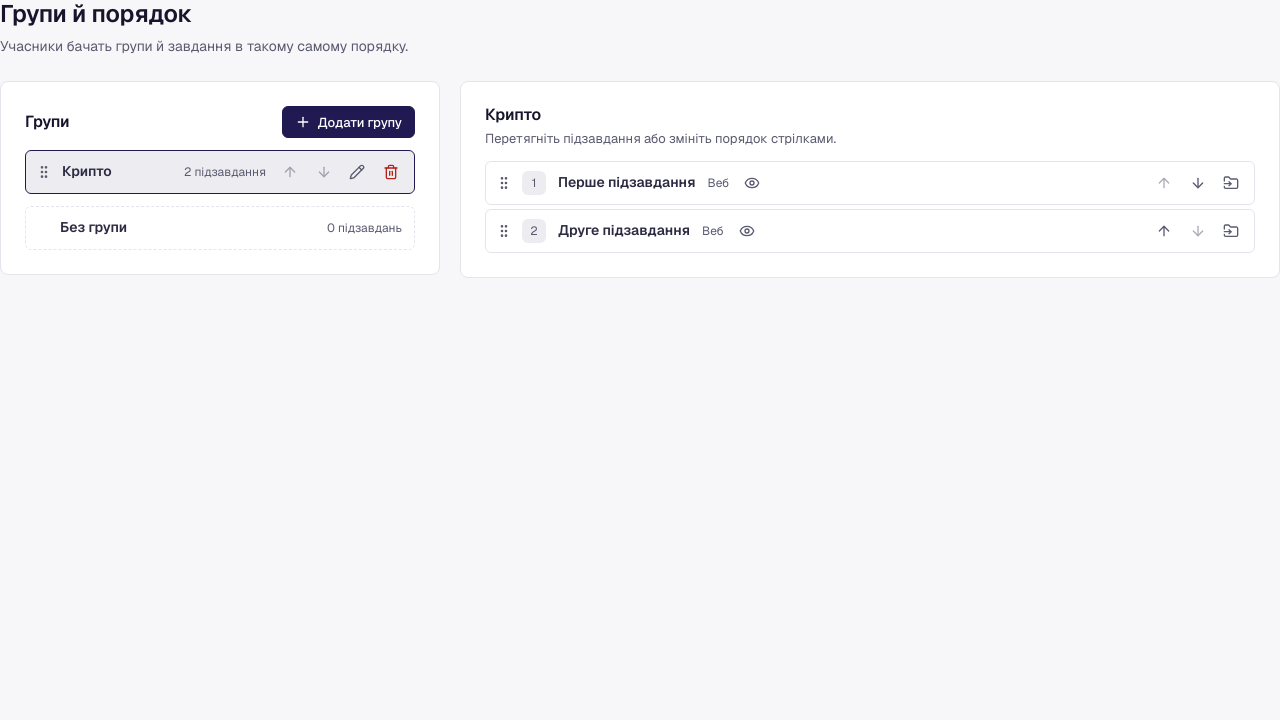
Test: ChallengeGroupsManager group sidebar › keeps an empty ungrouped destination beside named groups and can navigate back to their tasks
Step 1. Click the button "Без групи 0 підзавдань" → (94, 227), box [25,206,415,250]
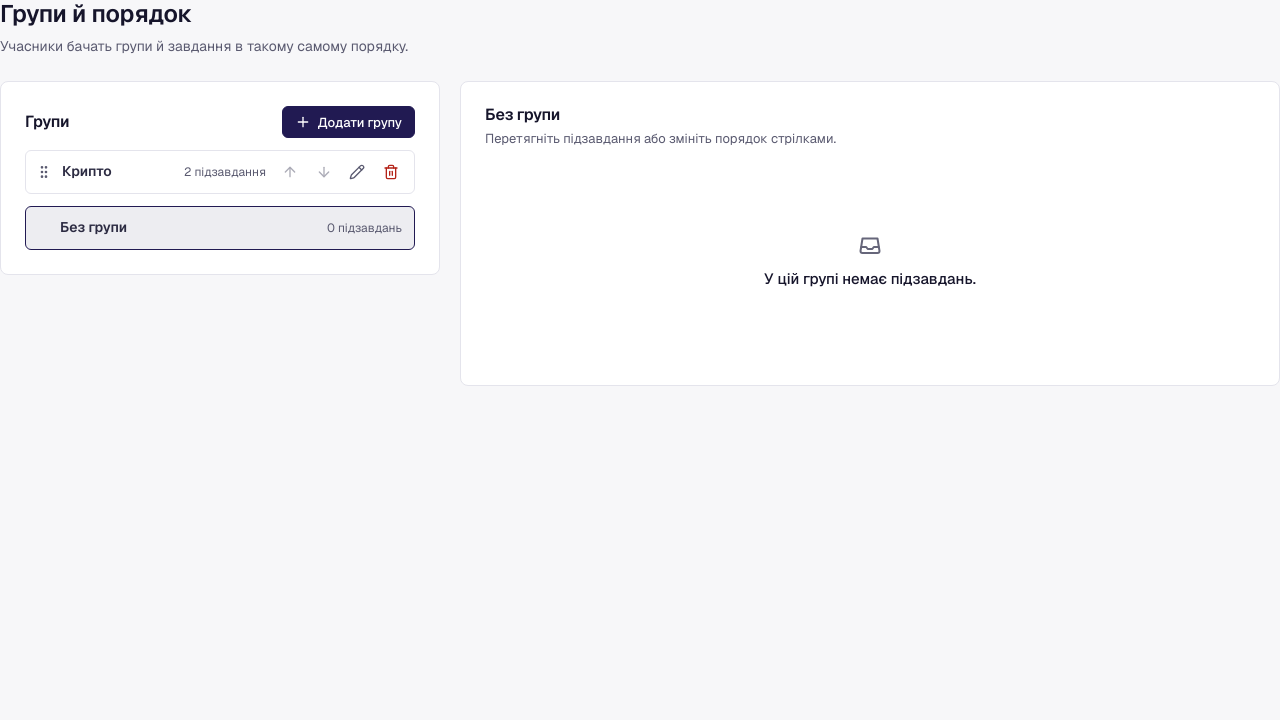
expect the text "У цій групі немає підзавдань." is shown: met, box [764,269,976,289]
expect the text "Перше підзавдання" is gone: met
Step 2. Click the button "Крипто 2 підзавдання" → (164, 172), box [62,151,266,193]
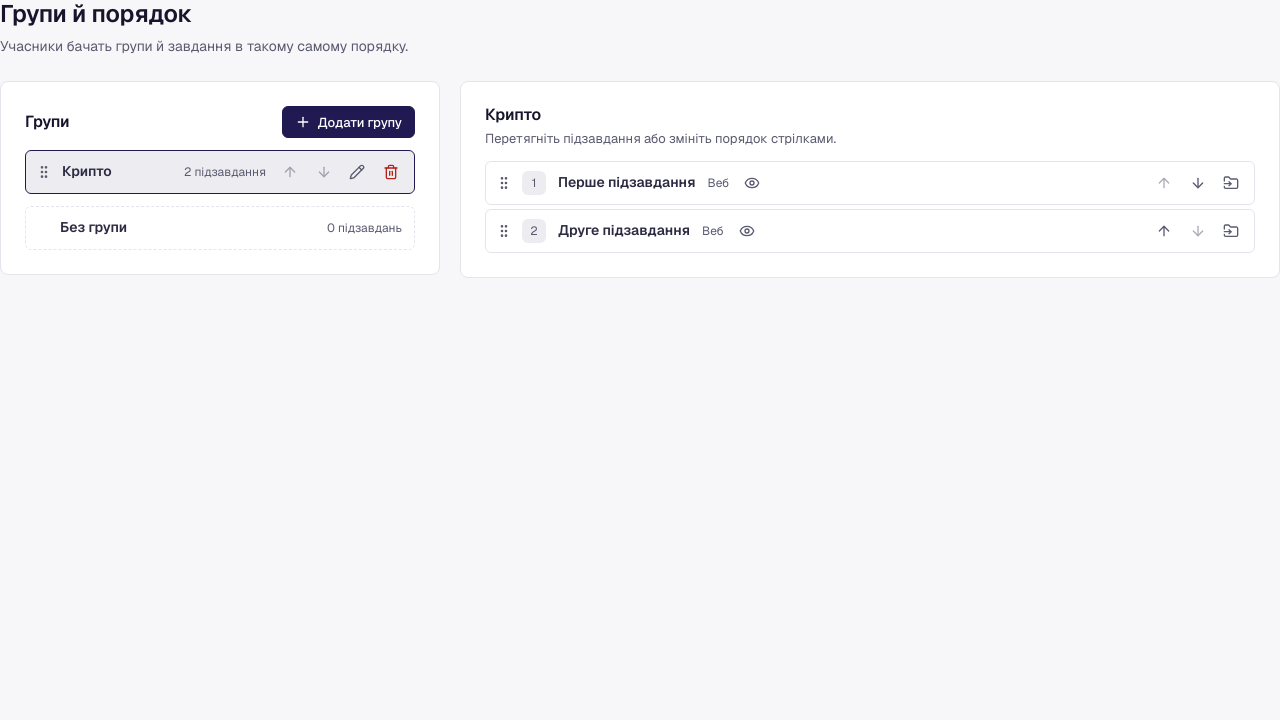
expect the text "Перше підзавдання" is shown: met, box [558,172,696,194]
expect the button named "Опустити Перше підзавдання" is enabled: met, box [1182,167,1214,199]
expect the button named "Підняти Друге підзавдання" is enabled: met, box [1148,215,1180,247]
Step 3. Click the button named "Перемістити до групи…" in the row of "Перше підзавдання" → (1231, 183), box [1216,168,1246,198]
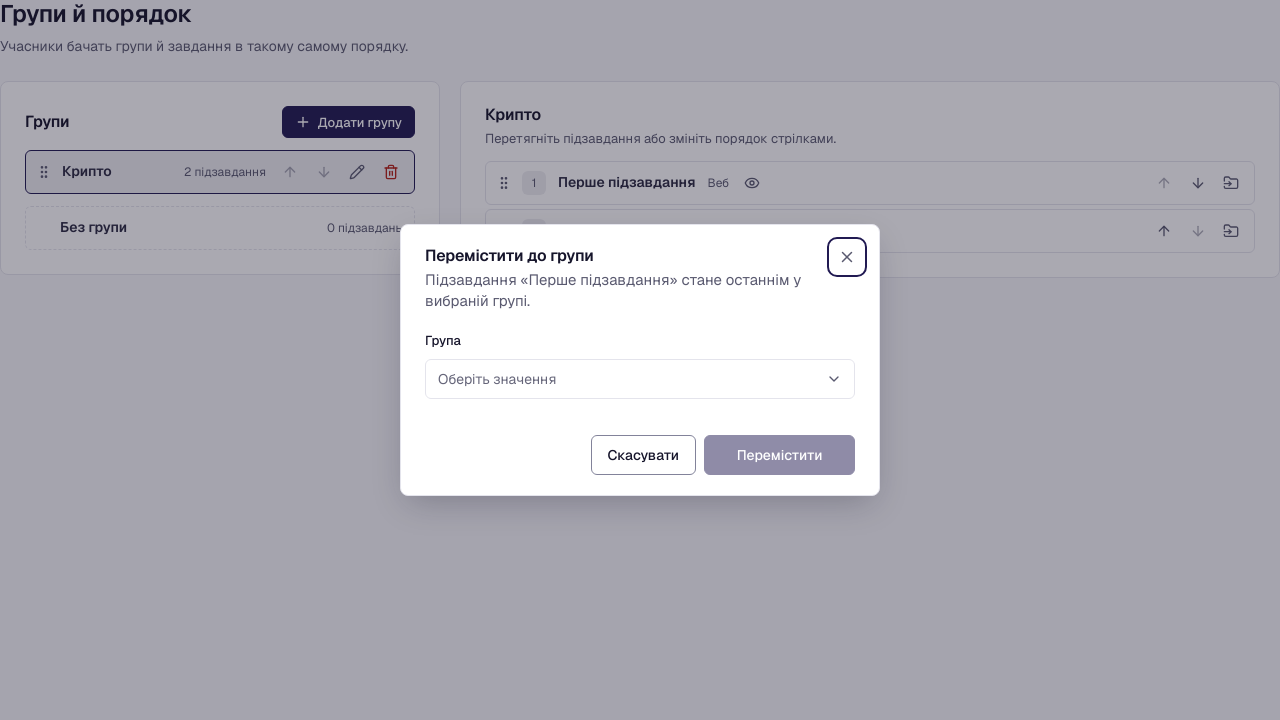
expect the dialog "Перемістити до групи" is shown: met, box [400,224,880,496]
Step 4. Press the mouse on the button with aria-label "Група" → (497, 379), box [425,359,855,399]
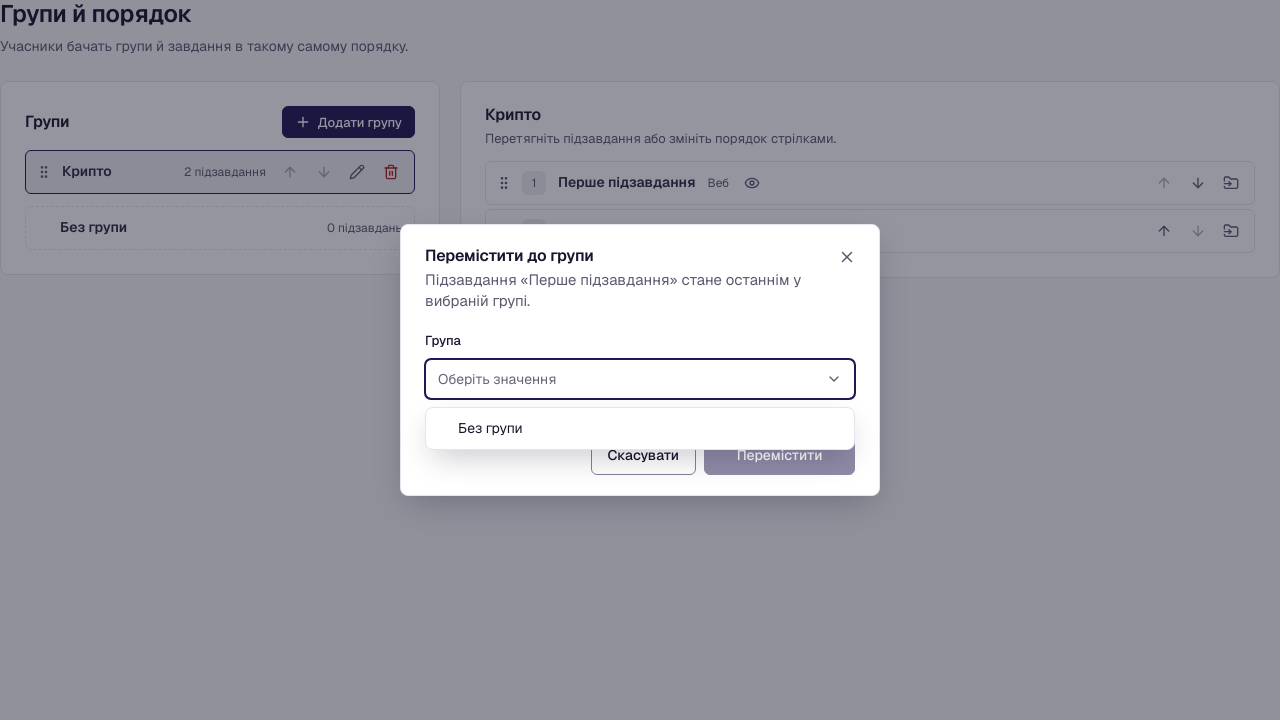
Step 5. Click the menu item "Без групи" → (490, 428), box [458,419,523,437]
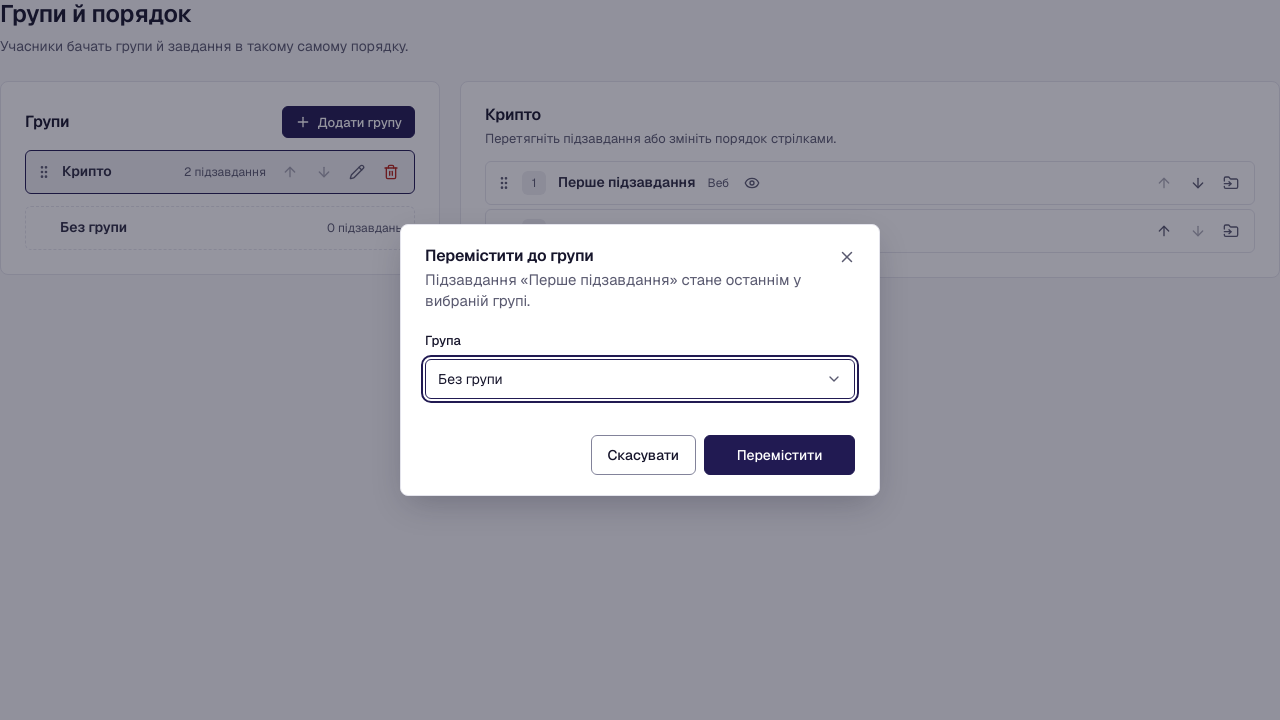
expect the button with aria-label "Група" reads "Без групи": met, box [425,359,855,399]
expect the button "Перемістити" is enabled: met, box [704,435,855,475]
